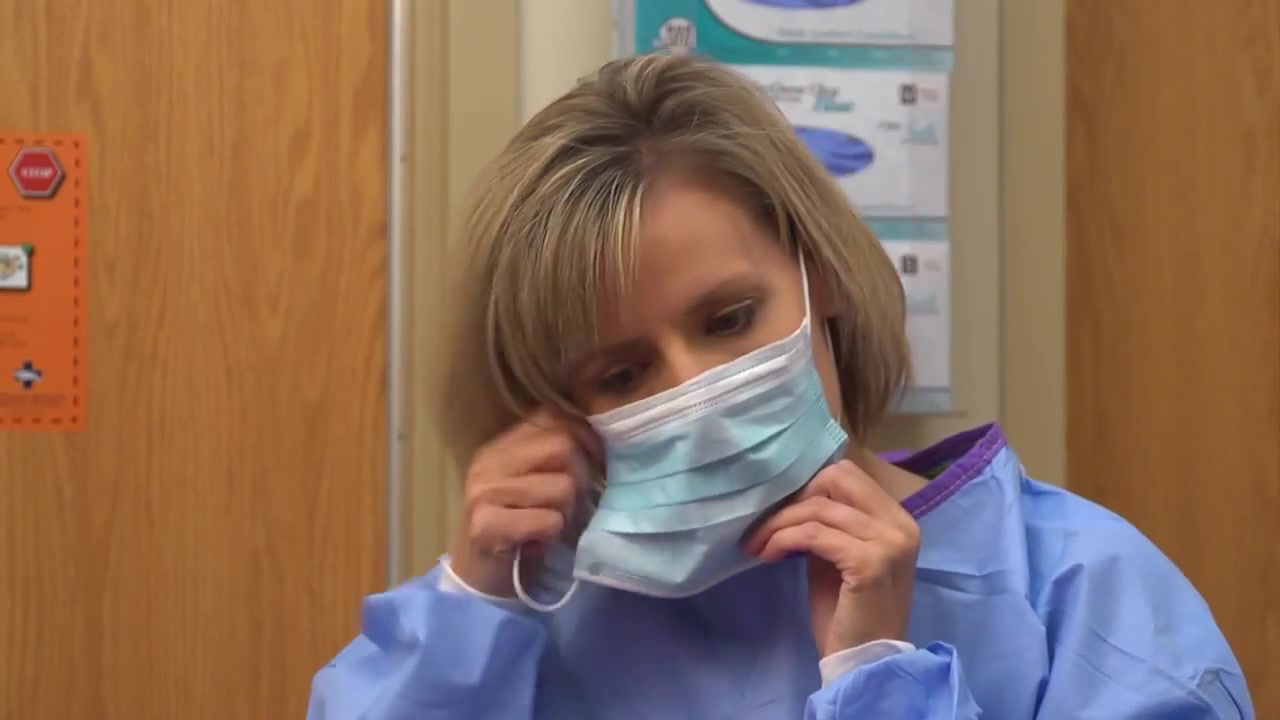Coverall: (298, 464, 1235, 720)
mask_weared_incorrect: (558, 379, 862, 590)
